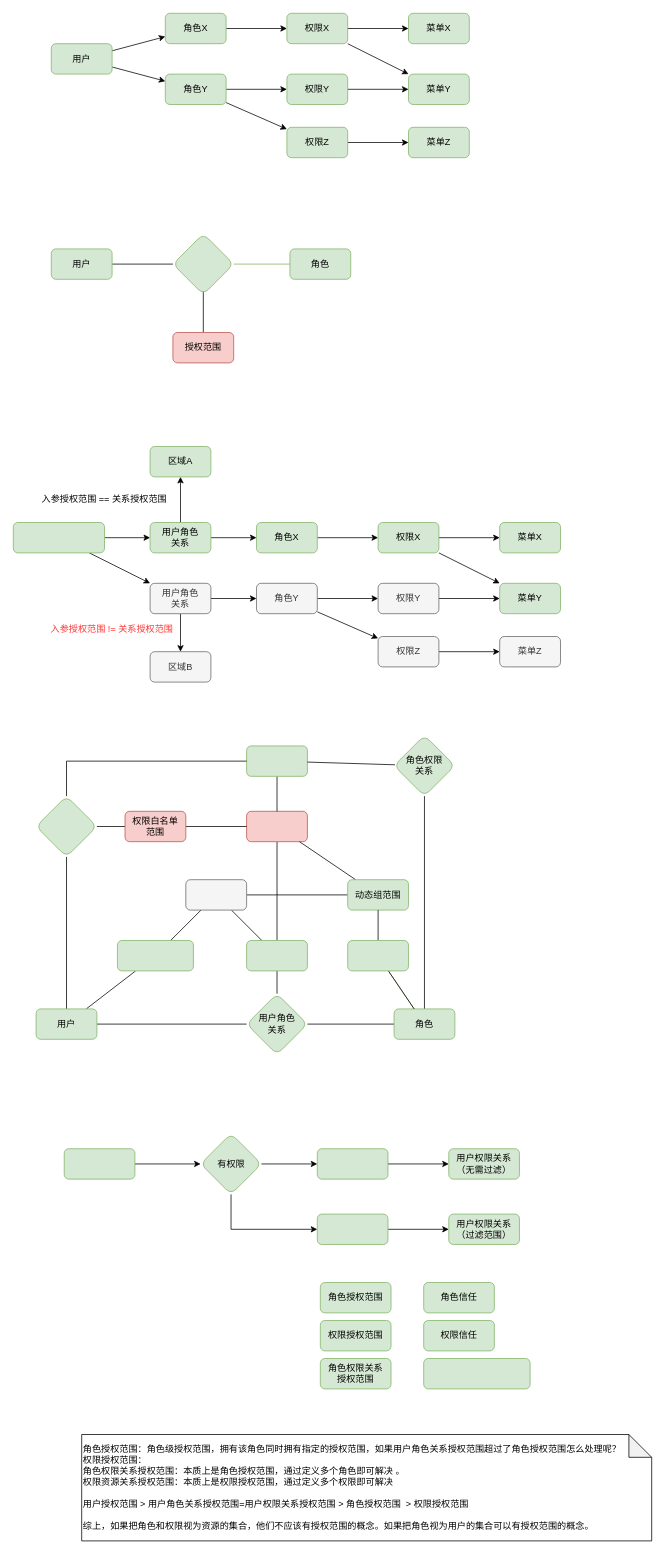
This 665x1554 diagram has some shape labels left out. The centre of each missing label's shape, as x and y in pixels:
关系: the point at 203,263
动态组: the point at 377,955
城市/组织: the point at 216,894
本质是角色授权范围，通过定义两个角色即可解决: the point at 476,1373
权限: the point at 276,760
用户=xxx 授权范围=区域A: the point at 58,537
用户权限 关系: the point at 66,826
用户级授权范围 authResource: the point at 99,1163
用户级范围 （默认/mtbase）: the point at 155,955
用户角色关系 （无需过滤）: the point at 352,1163
用户角色关系 （过滤范围）: the point at 352,1228
白名单范围: the point at 276,955
通用资源: the point at 276,826
